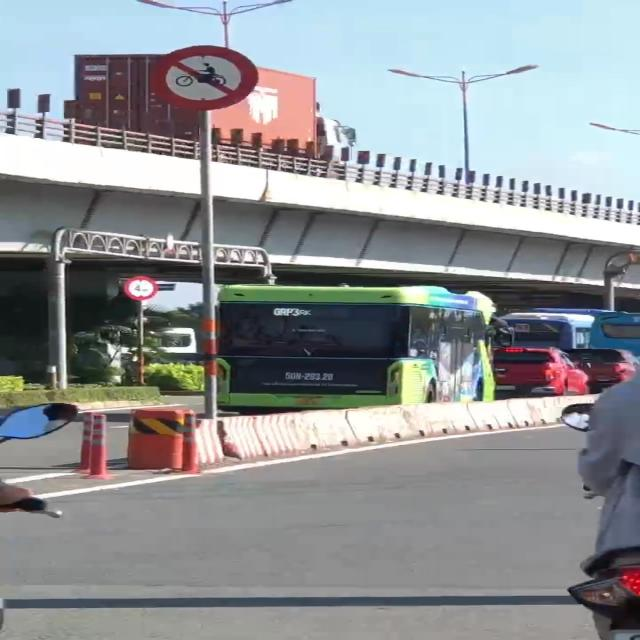Bien bao cam xe may: (142, 42, 268, 119)
